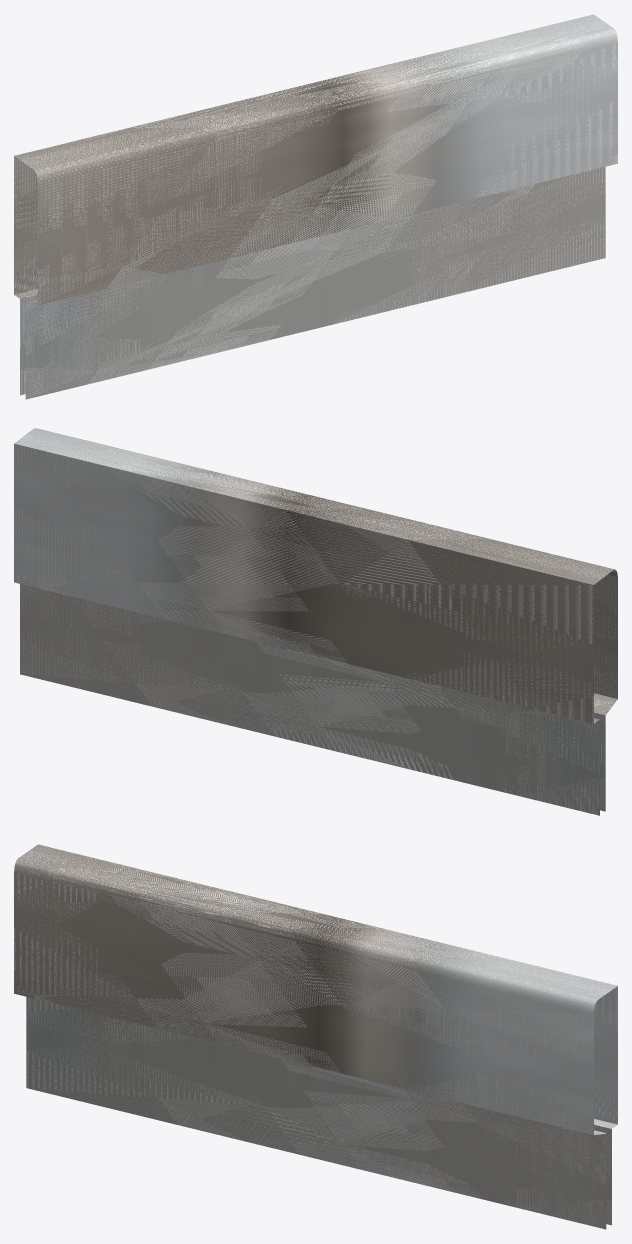
The model's file is original-30.obj.
The picture shows the model from 3 angles, top to bottom: view 1: azimuth 30°, elevation 25°; view 2: azimuth 150°, elevation 25°; view 3: azimuth 330°, elevation 25°; orthographic projection.
Visible parts, largest first — view 1: LT_21_TC1/LT_21_TC/mesh24/mesh24-geometry#mesh24-geometry; view 2: LT_21_TC1/LT_21_TC/mesh24/mesh24-geometry#mesh24-geometry; view 3: LT_21_TC1/LT_21_TC/mesh24/mesh24-geometry#mesh24-geometry.
Boxes of the visible parts, x1,y1,x2,y2 form: LT_21_TC1/LT_21_TC/mesh24/mesh24-geometry#mesh24-geometry: [14, 14, 617, 399]; LT_21_TC1/LT_21_TC/mesh24/mesh24-geometry#mesh24-geometry: [14, 428, 617, 815]; LT_21_TC1/LT_21_TC/mesh24/mesh24-geometry#mesh24-geometry: [14, 844, 617, 1229].
Size of the model in its own units: 0.3763 by 0.1462 by 0.0271.
